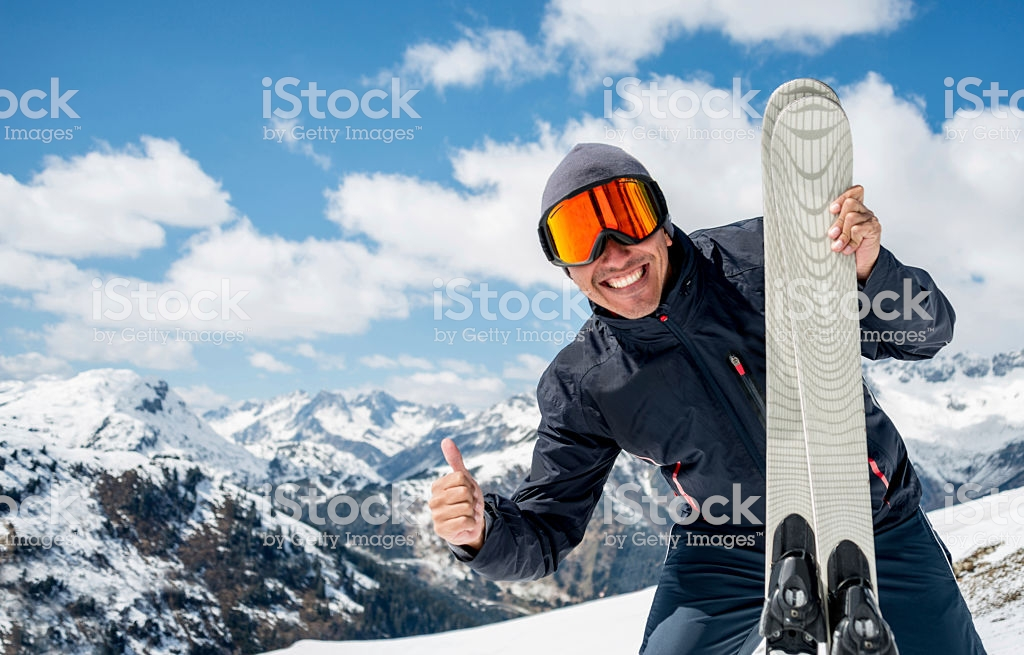thumbsup: (425, 437, 487, 546)
